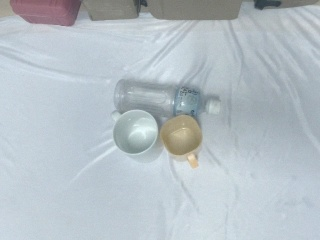bottle: (113, 79, 220, 119)
cup: (160, 114, 203, 170), (111, 109, 161, 156)
